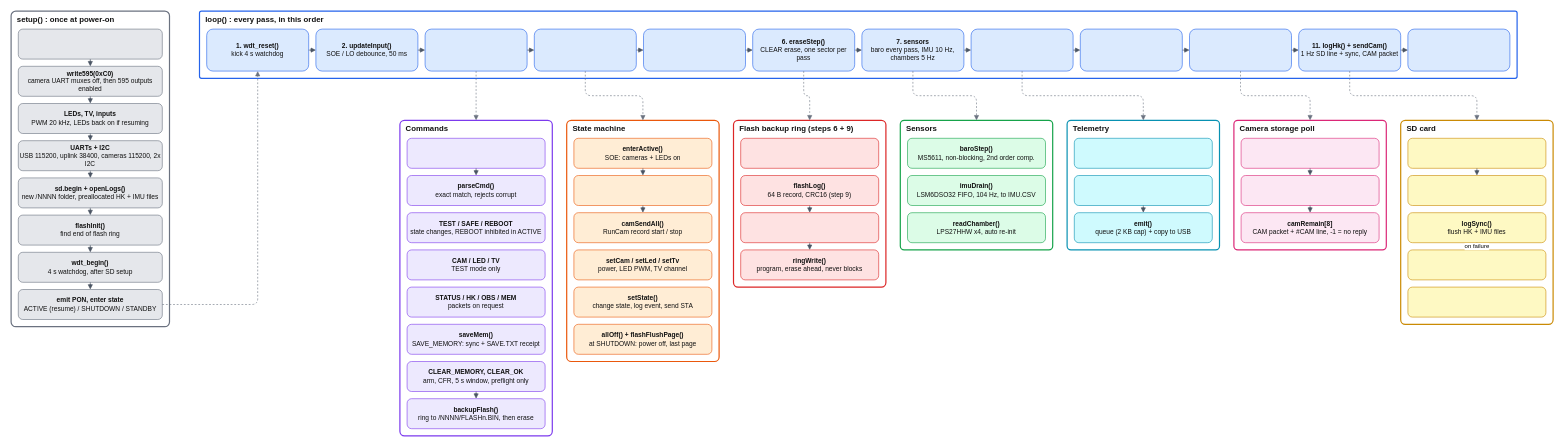
The diagram is 1564 pixels wide and 446 high, and some of its shapes have lost their labels. The centre of each missing label's shape, as x and y in pixels:
10. camera poll 1 Hz, one camera at a time, TEST / ACTIVE: the point at 1240,49
12. pumpTx() send queued bytes, non-blocking: the point at 1458,49
3. pollLine() uplink + USB command lines: the point at 475,49
4. state machine SOE start, LO log, CLEAR window, runActive(): the point at 585,49
5. persist() state + time since SOE to watchdog scratch: the point at 694,49
8. telemetry 8 packets at 5 Hz: the point at 1021,49
9. flashLog() 10 Hz, ACTIVE only: the point at 1131,49
camQueryRemaining() mux to one camera, GET_SETTINGS, CRC8: the point at 1309,153
eraseSector() CLEAR: whole ring, stops on SOE: the point at 809,153
flashFlushPage() 4 records = 256 B page: the point at 809,227
handle() run command, ACK / ERR, rx / bad counters: the point at 475,153
imuSync() 1 Hz millis / IMU timestamp pair: the point at 1476,301
logf() / logEvent() format and write, #EVT lines: the point at 1476,153
logWrite() in place, zero next 4 KB: the point at 1476,190
parseCamStorage() remaining recording time: the point at 1309,190
resume check watchdog scratch: CAM_EN high at once if resuming ACTIVE: the point at 90,43
runActive() record start, timed stop, shutdown: the point at 642,190
sdFailed() stop SD, send SD_FAIL once: the point at 1476,264
sendMem / sendObs / sendCam on request, CAM also at 1 Hz: the point at 1143,190
sendSta ... sendImu JSON packets, all under 64 B: the point at 1143,153
